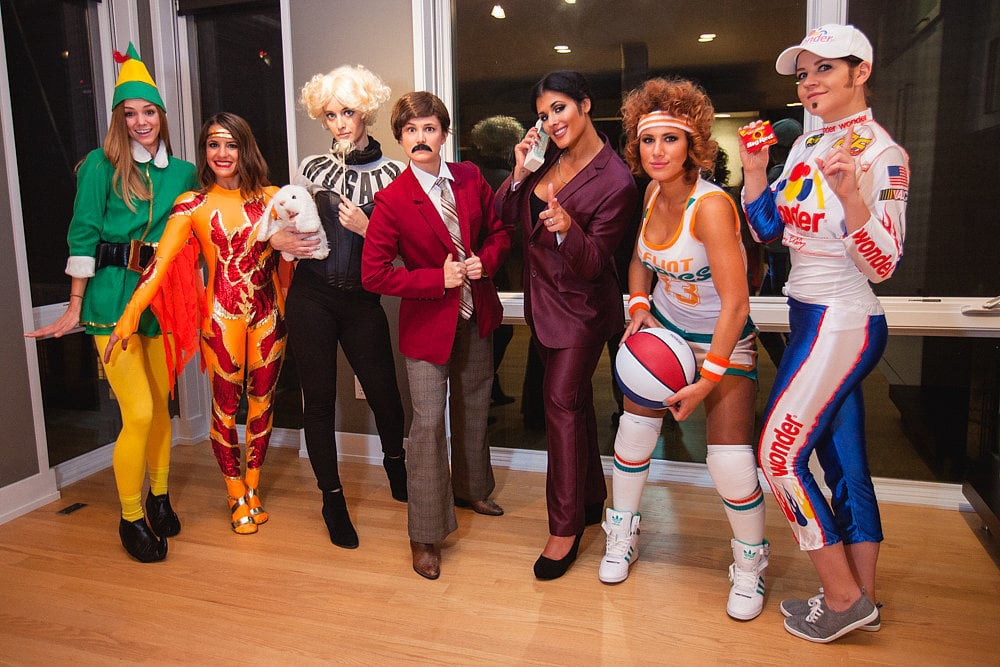bad: (785, 46, 847, 108), (631, 124, 682, 176), (535, 98, 578, 142), (117, 98, 160, 142), (319, 98, 362, 142), (199, 132, 242, 175), (400, 118, 443, 161)
